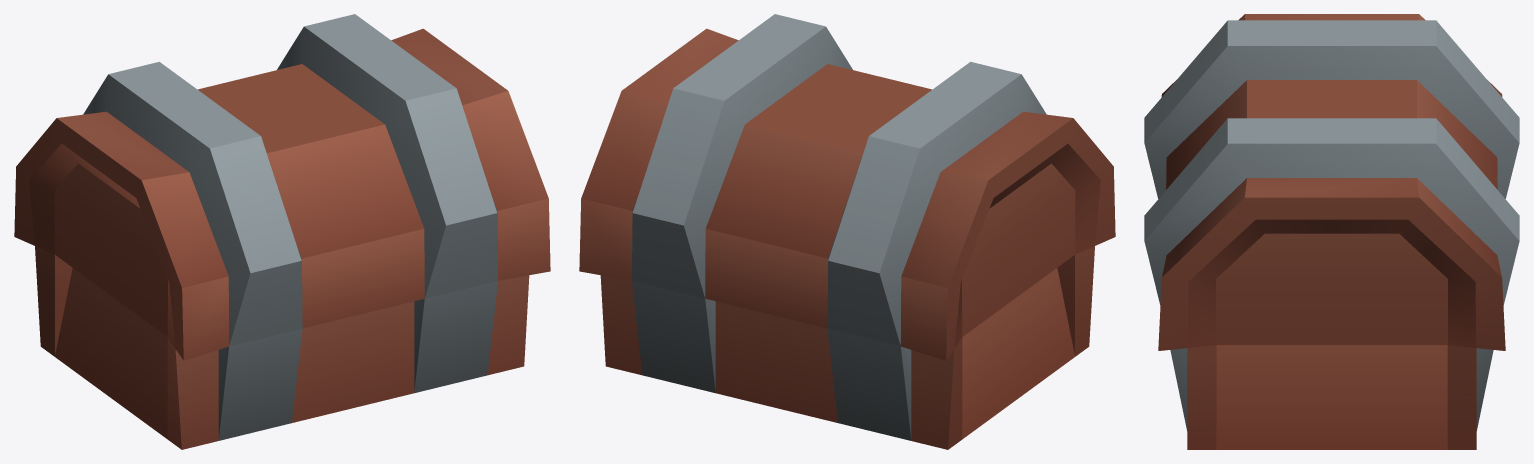
File: trunk_small_A.gltf
The picture shows the model from 3 angles, left to right: view 1: azimuth 30°, elevation 25°; view 2: azimuth 150°, elevation 25°; view 3: azimuth 270°, elevation 25°; orthographic projection. The views are drawn at different scales.
Parts seen in each view (by area): view 1: trunk_small_A; view 2: trunk_small_A; view 3: trunk_small_A.
Boxes of the visible parts, bbox=[...] form: trunk_small_A: bbox=[14, 14, 550, 449]; trunk_small_A: bbox=[579, 14, 1115, 449]; trunk_small_A: bbox=[1144, 14, 1519, 449].
Size of the model in its own units: 0.6754 by 0.4843 by 0.5834.
1 material, 1 textured.
